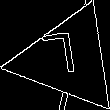L_S: (47, 33, 88, 86)
